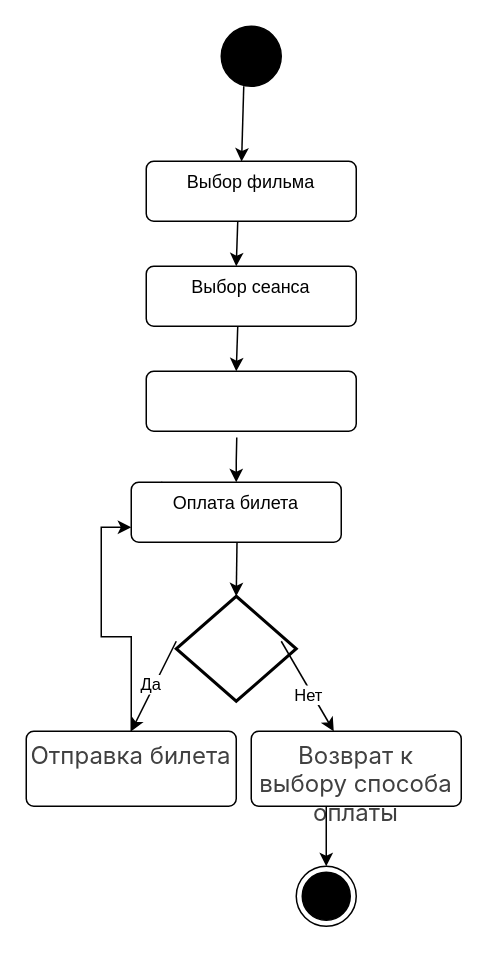
The diagram is 488 pixels wide and 953 high, and some of its shapes have lost their labels. The box of each missing label's shape, as (x1, y1, x2, y2) in pixels:
Выбор места: (145, 370, 356, 431)
Оплата успешна?: (174, 594, 297, 702)
